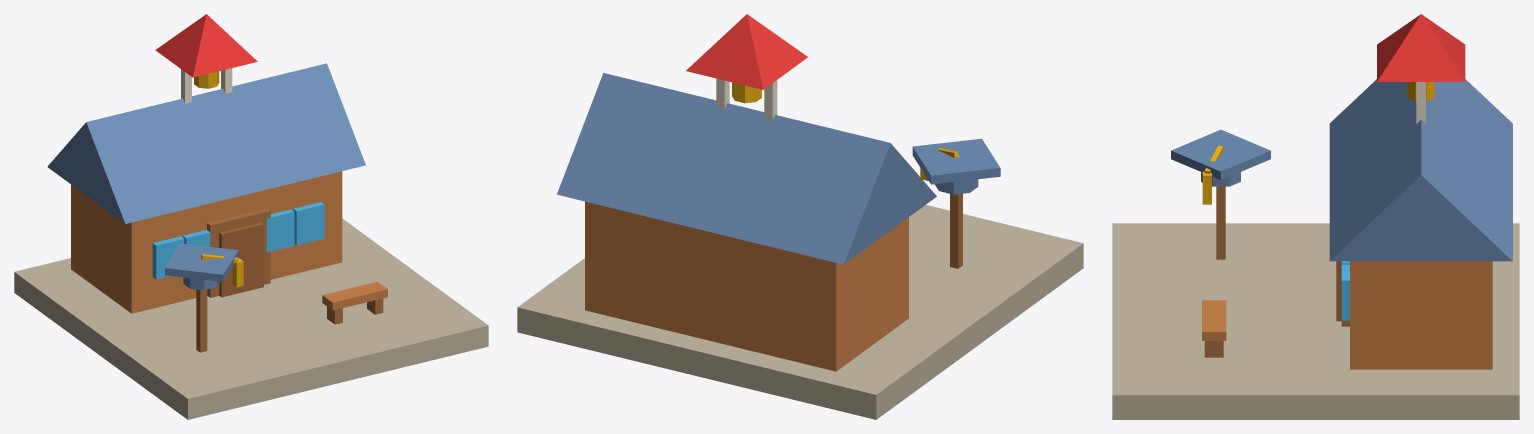
File: university_t1_v1.glb
The picture shows the model from 3 angles, left to right: view 1: azimuth 30°, elevation 25°; view 2: azimuth 150°, elevation 25°; view 3: azimuth 270°, elevation 25°; orthographic projection. The views are drawn at different scales.
Visible parts, largest first — view 1: university_t1_v1; view 2: university_t1_v1; view 3: university_t1_v1.
Part boxes in pixels (left/top/right/bottom): university_t1_v1: left=14, top=14, right=488, bottom=419; university_t1_v1: left=517, top=14, right=1083, bottom=419; university_t1_v1: left=1112, top=14, right=1519, bottom=419.
Size of the model in its own units: 0.6 by 0.52 by 0.6.
1 material, 1 textured.
